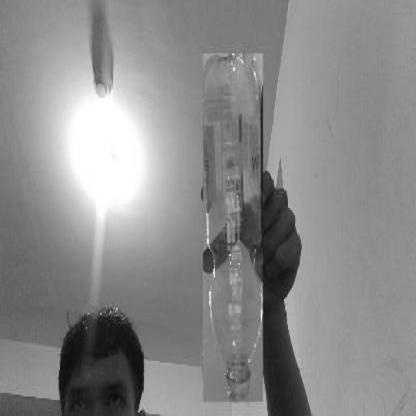plastic_bottles: (203, 53, 263, 402)
